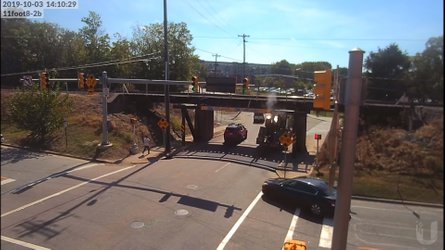bridge: (21, 67, 443, 116)
